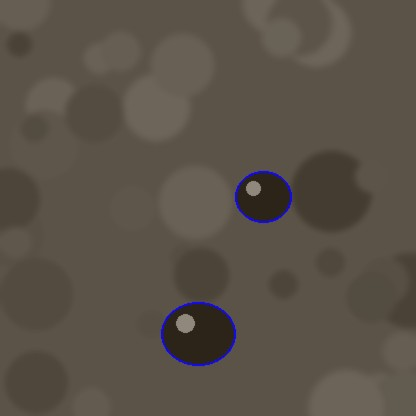gota: (161, 304, 235, 370), (235, 173, 291, 227)
